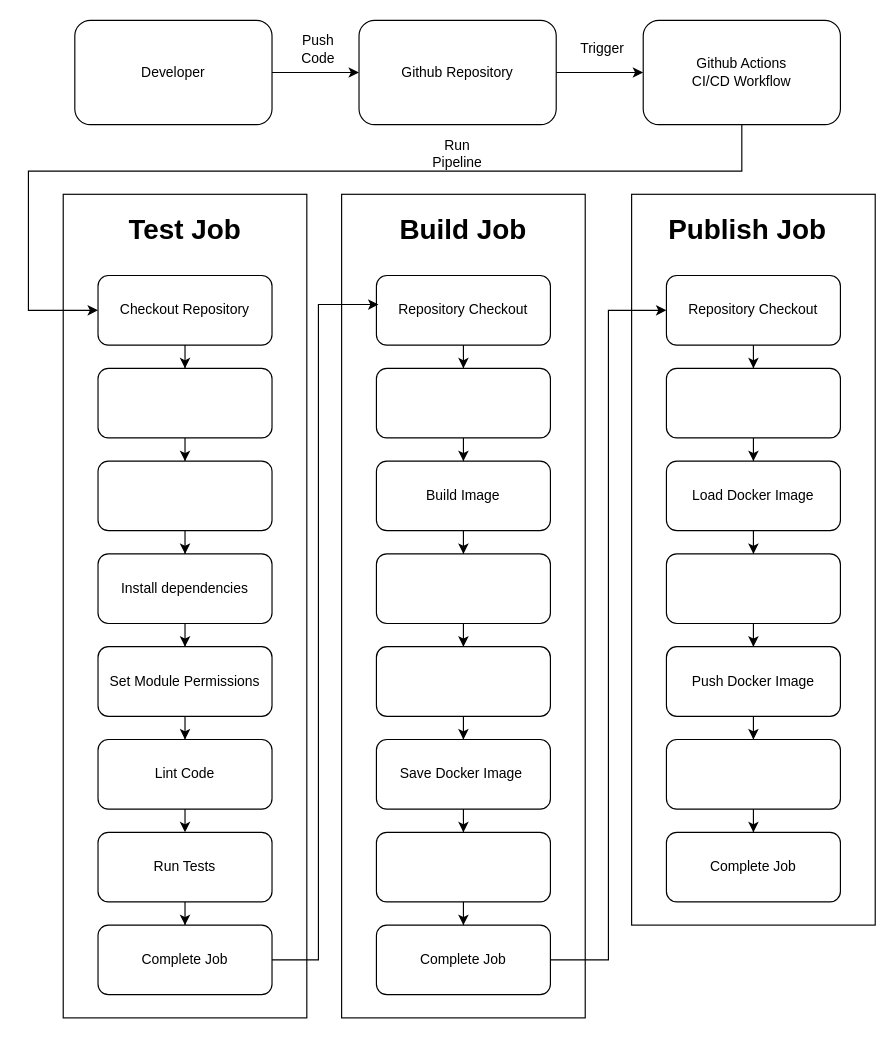
The diagram is 896 pixels wide and 1038 high, and some of its shapes have lost their labels. Each missing label, with the centre of its shape:
Cache Node modules: (x=184, y=495)
Download Docker Image Artifact: (x=752, y=402)
Login to GHCR: (x=752, y=588)
Pipeline Notification via Slack: (x=752, y=773)
Scan Image: (x=462, y=588)
Set Image Tag: (x=462, y=402)
Setup Node.js: (x=184, y=402)
Update Github with Scan Report: (x=462, y=681)
Upload Artifact: (x=462, y=866)
